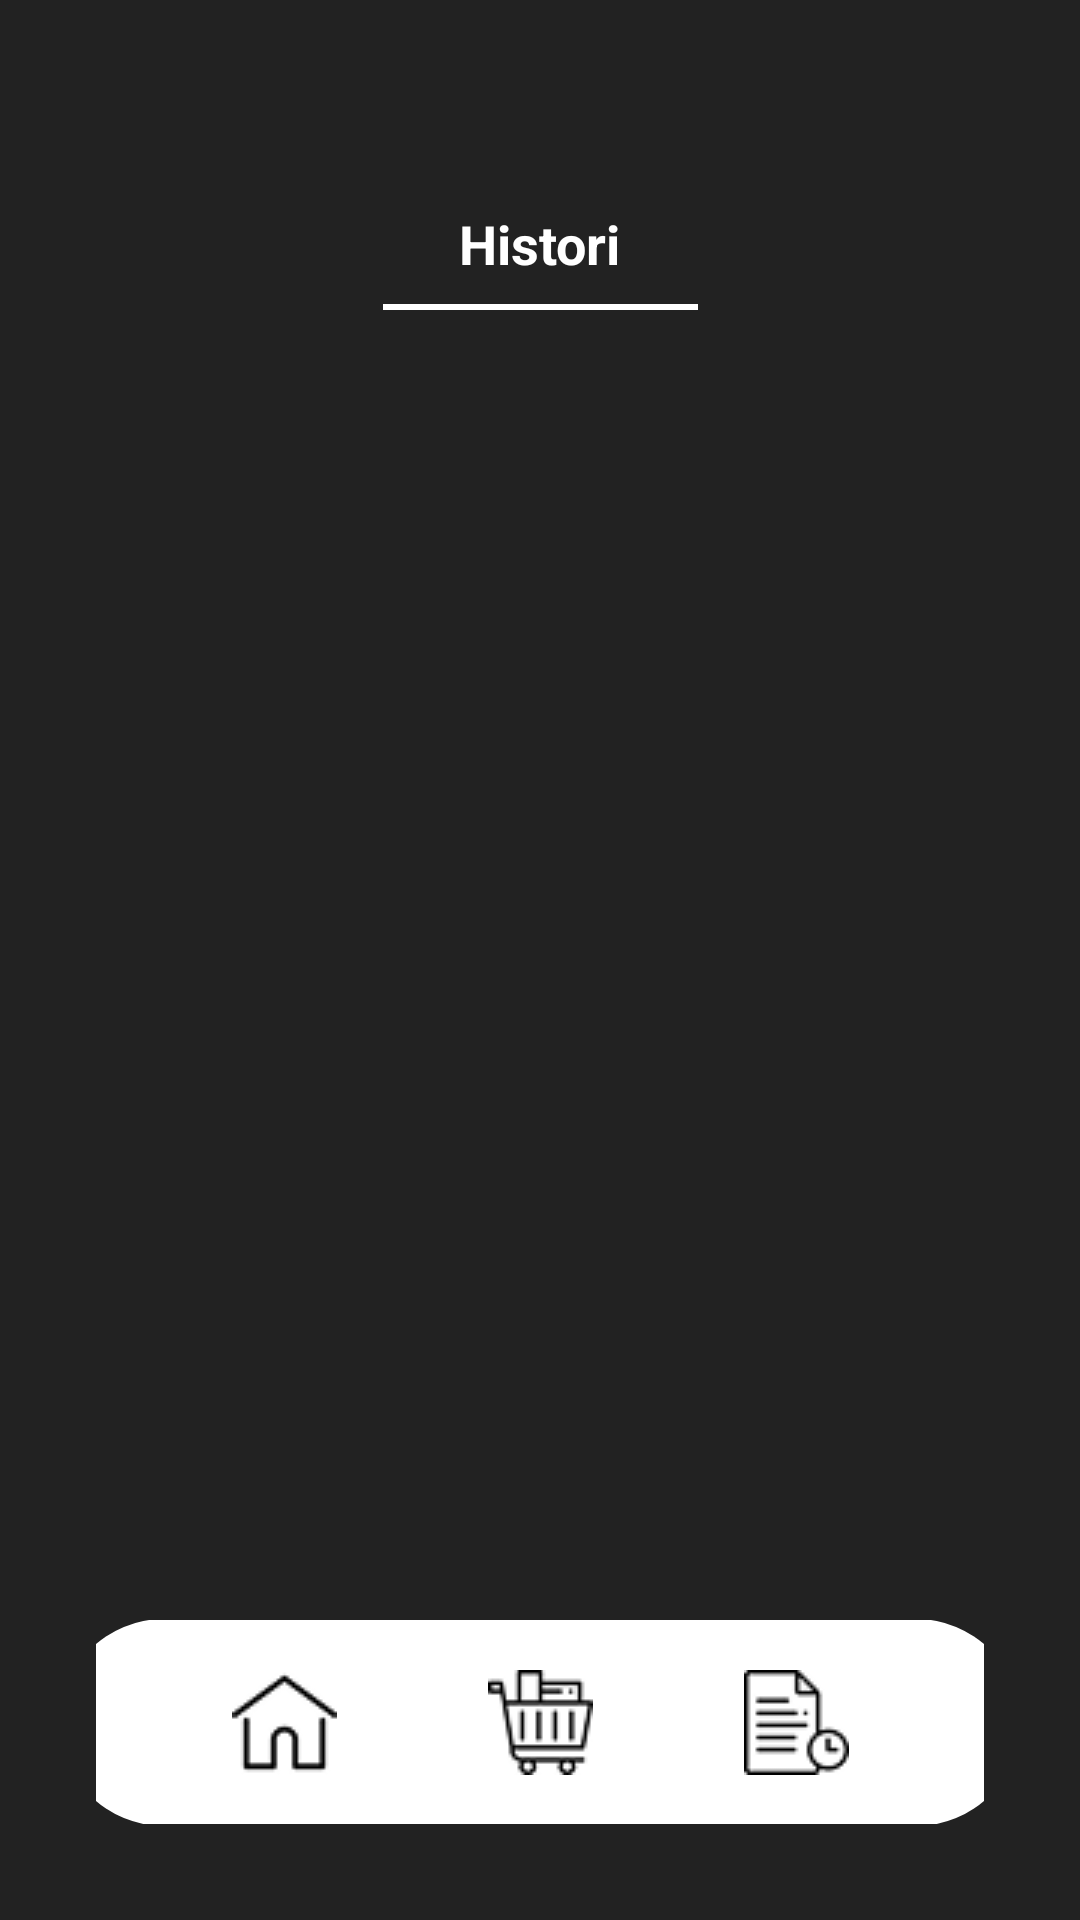

Icon click points for this 1080×1920 phone screenshot, format (x=x, y=y):
histori: (x=796, y=1722)
home: (x=284, y=1723)
keranjang: (x=540, y=1722)
